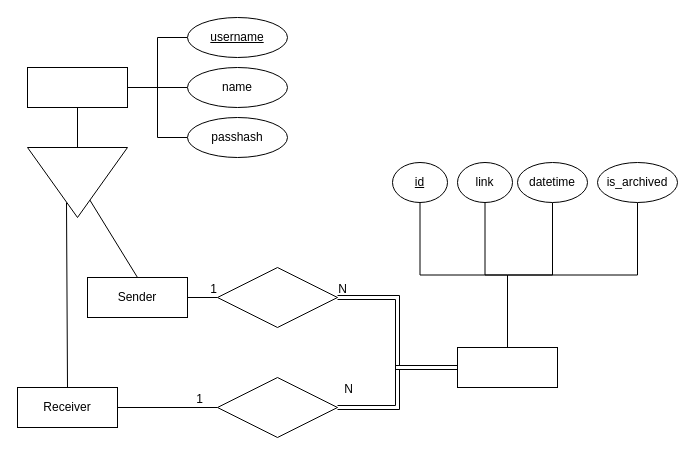
Image size: 695x455. Some labels were removed from this diagram. Each missing label, with the box of its shape:
ISA: (26, 146, 128, 218)
Message: (456, 346, 558, 388)
Receives: (216, 376, 338, 438)
Sends: (216, 266, 338, 328)
User: (26, 66, 128, 108)
